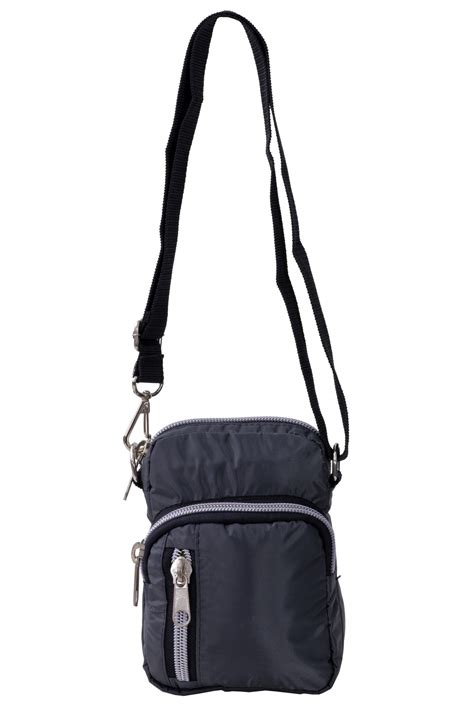nylon: (126, 416, 346, 696)
